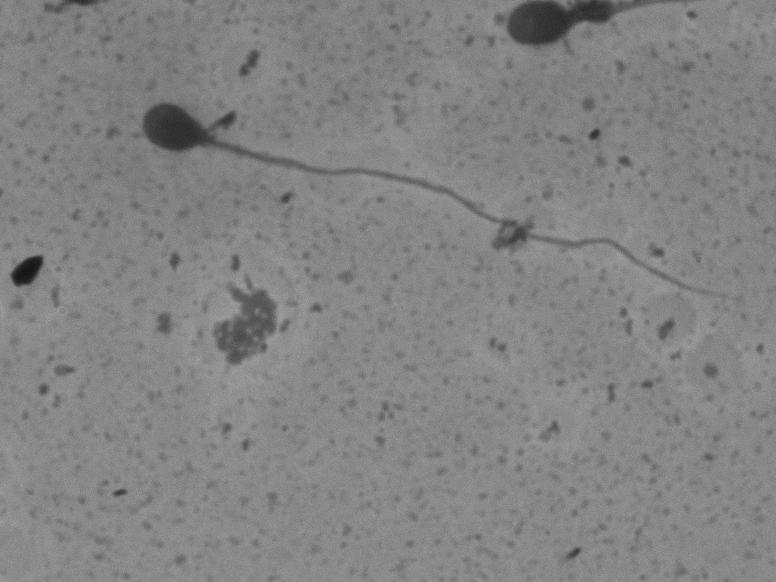Normal: (130, 79, 755, 327)
